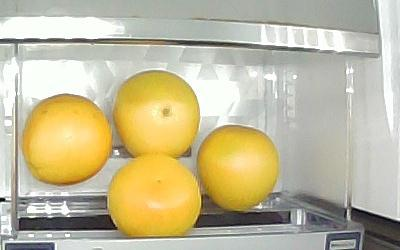grapefruit: (22, 94, 114, 185), (112, 71, 201, 161), (107, 154, 201, 238), (198, 126, 279, 211)
